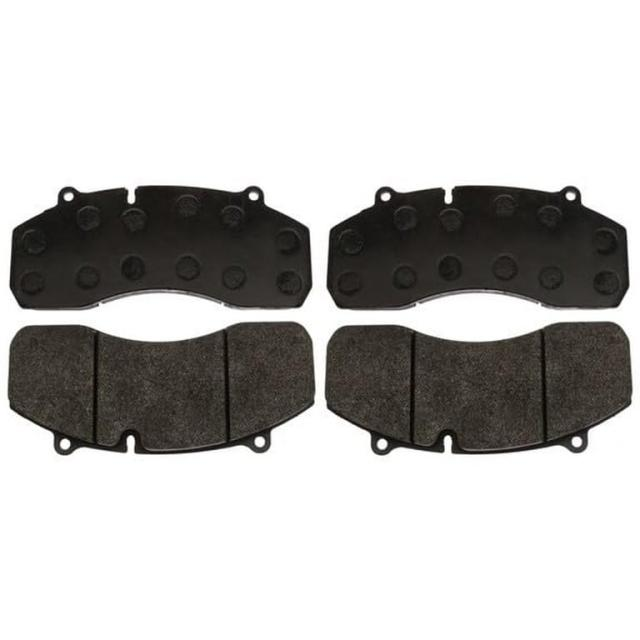brake_pad: (8, 170, 316, 312), (327, 166, 626, 312), (338, 322, 630, 468), (7, 324, 314, 456)
